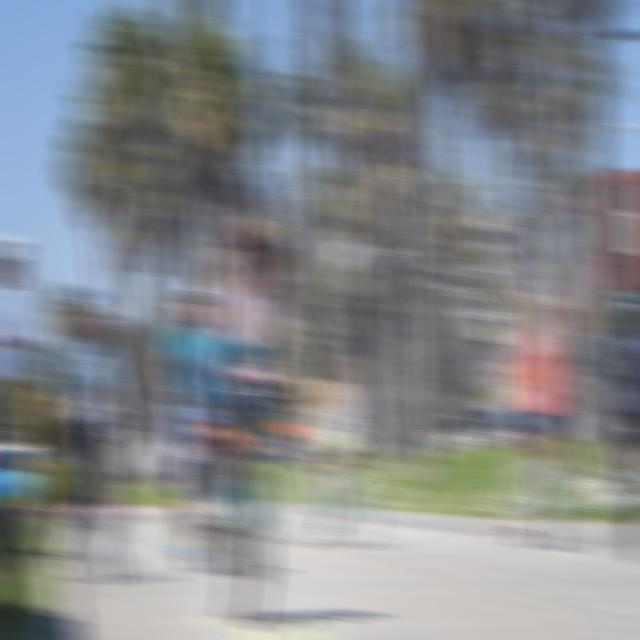With Helmet: (223, 163, 277, 250), (175, 272, 218, 330), (67, 284, 104, 340)
Without Helmet: (522, 281, 560, 333), (320, 345, 358, 388)
